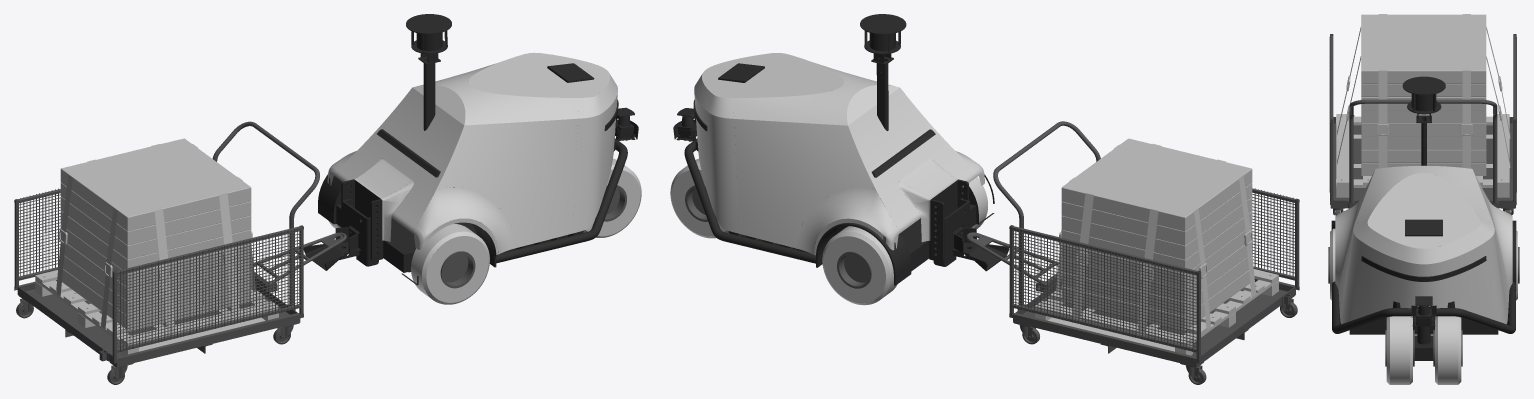
File: amr10-with-trolley.glb
The picture shows the model from 3 angles, left to right: view 1: azimuth 30°, elevation 25°; view 2: azimuth 150°, elevation 25°; view 3: azimuth 270°, elevation 25°; orthographic projection. The views are drawn at different scales.
Parts seen in each view (by area): view 1: Trolley attached; view 2: Trolley attached; view 3: Trolley attached.
Boxes of the visible parts, x1=… form: Trolley attached: x1=14, y1=14, x2=641, y2=384; Trolley attached: x1=670, y1=14, x2=1299, y2=384; Trolley attached: x1=1328, y1=14, x2=1519, y2=384.
Size of the model in its own units: 0.974 by 0.3884 by 0.3014.
Materials: 1 (1 with a texture image).
